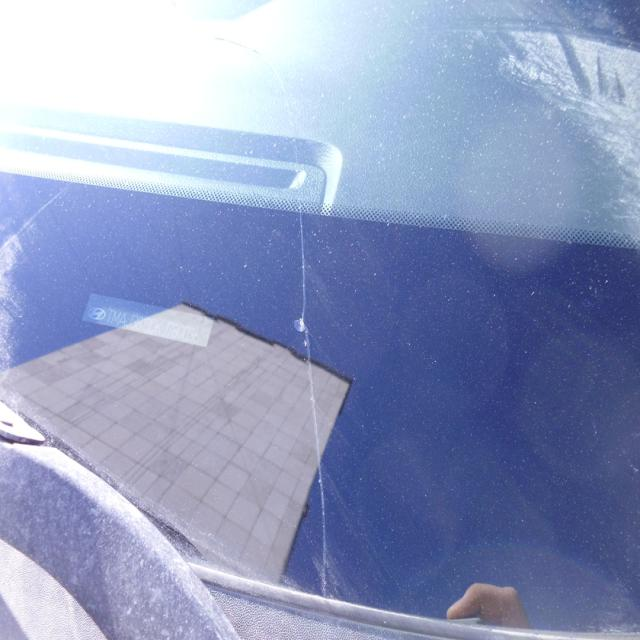Fissure: (201, 31, 330, 593)
